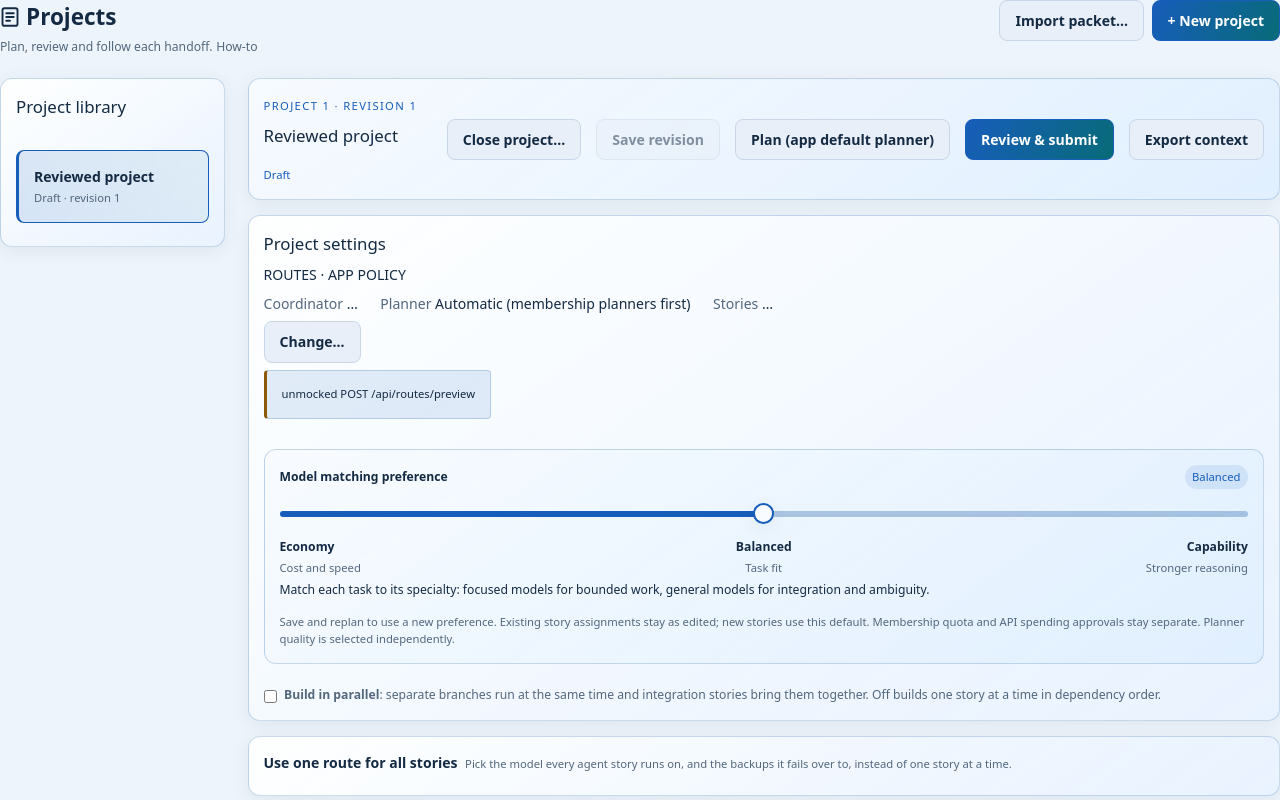
Test: submits a new brief to Hermes after coordination approval and displays honest progress
Click the button "+ New project" at point(1216, 21), box [1152,0,1279,41]
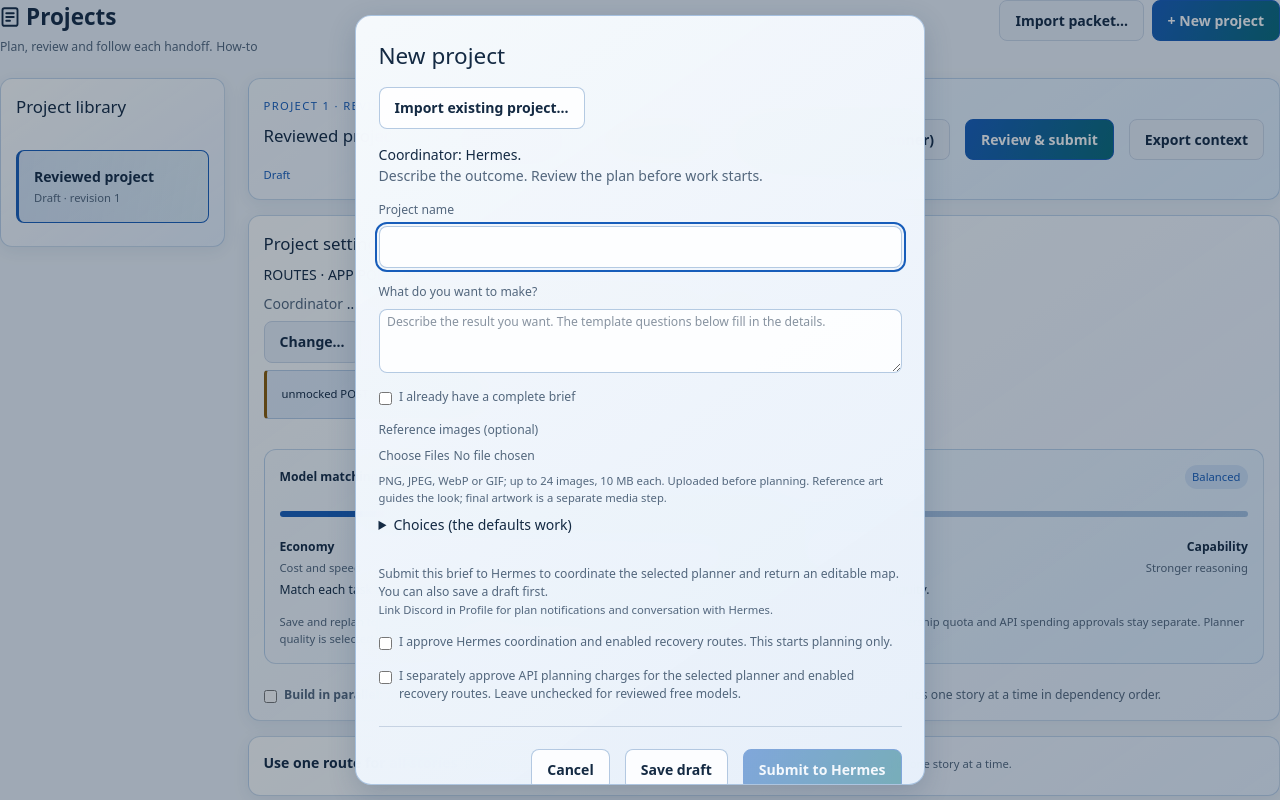
Type "Balanced project" into the field labelled "Project name" at point(640, 247), box [378,226,902,268]
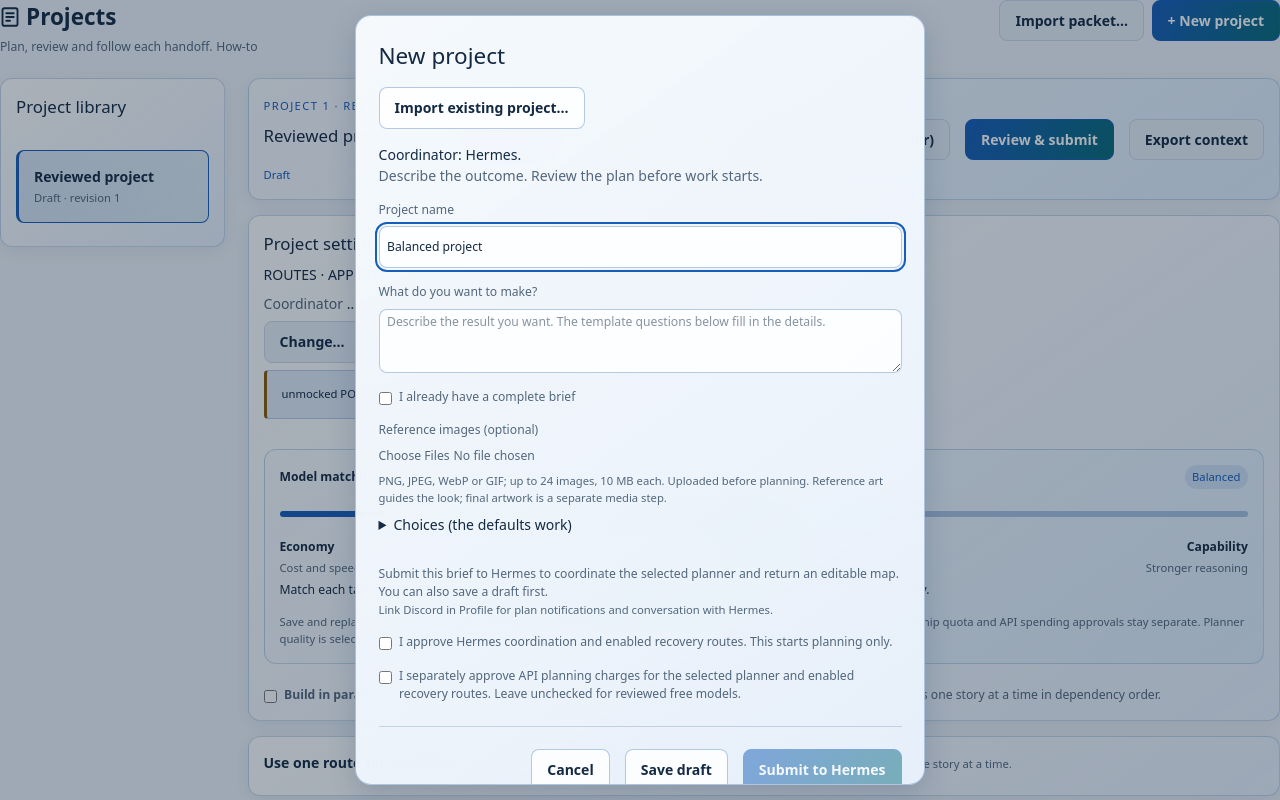
Replace the text in the text box labelled "What do you want to make?" with "A reviewed brief" at point(640, 341), box [378,308,902,373]
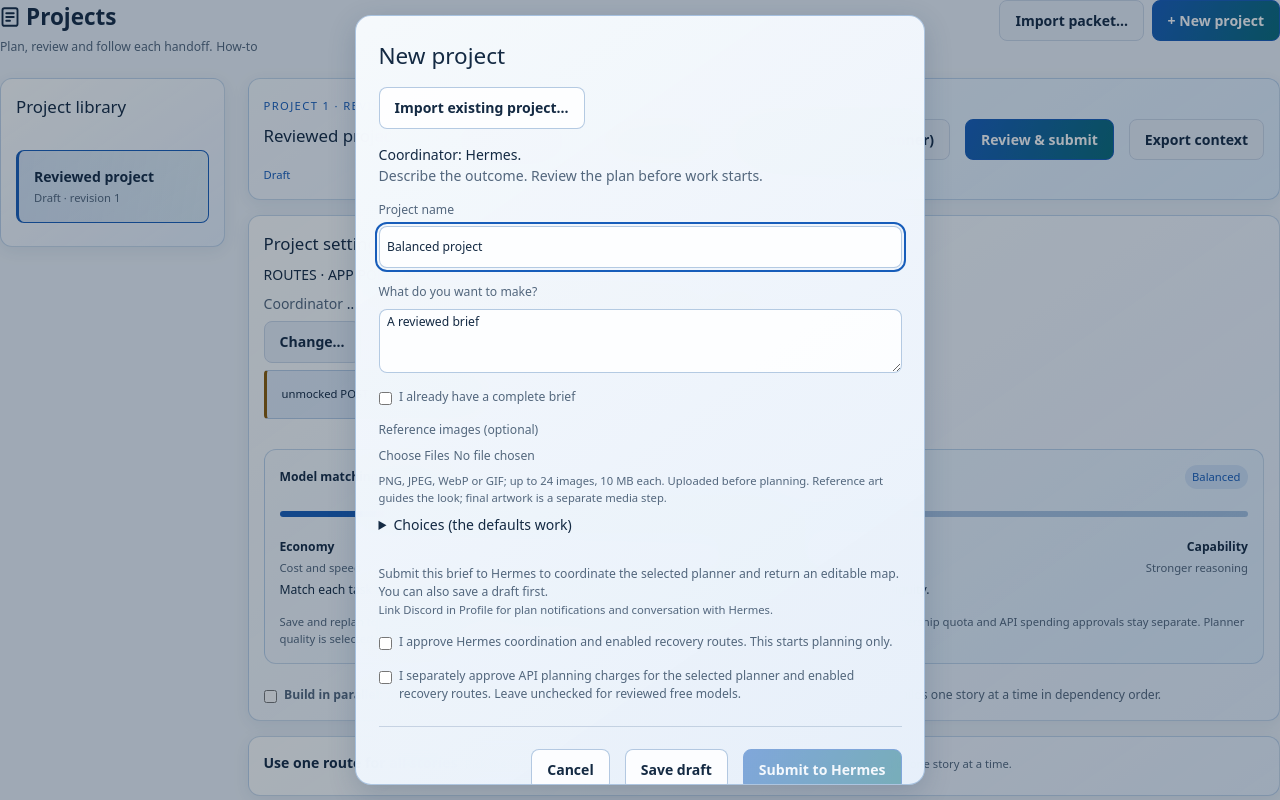
Expected: the button "Submit to Hermes" is disabled, [743,749,902,785]
Click the 2nd checkbox at point(385, 644), box [378,637,392,650]
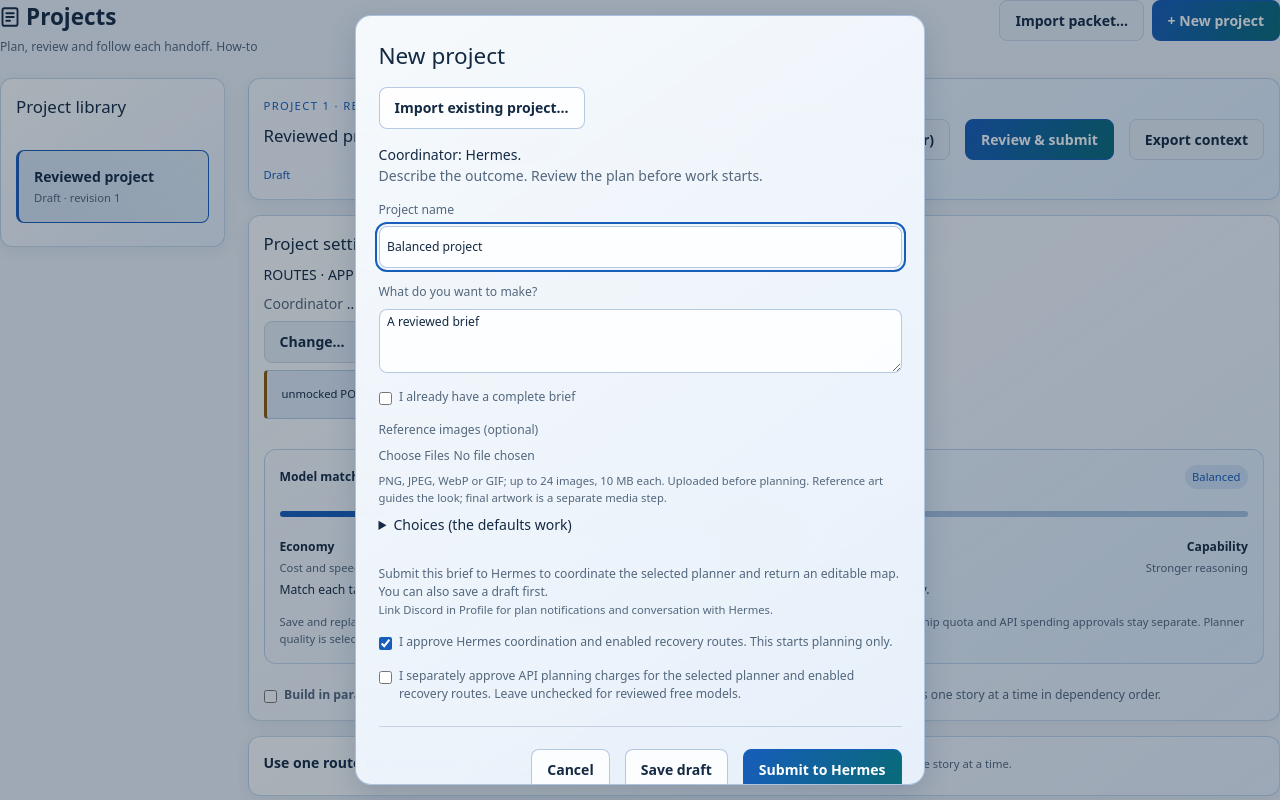
Submit the form, box [378,38,902,791]
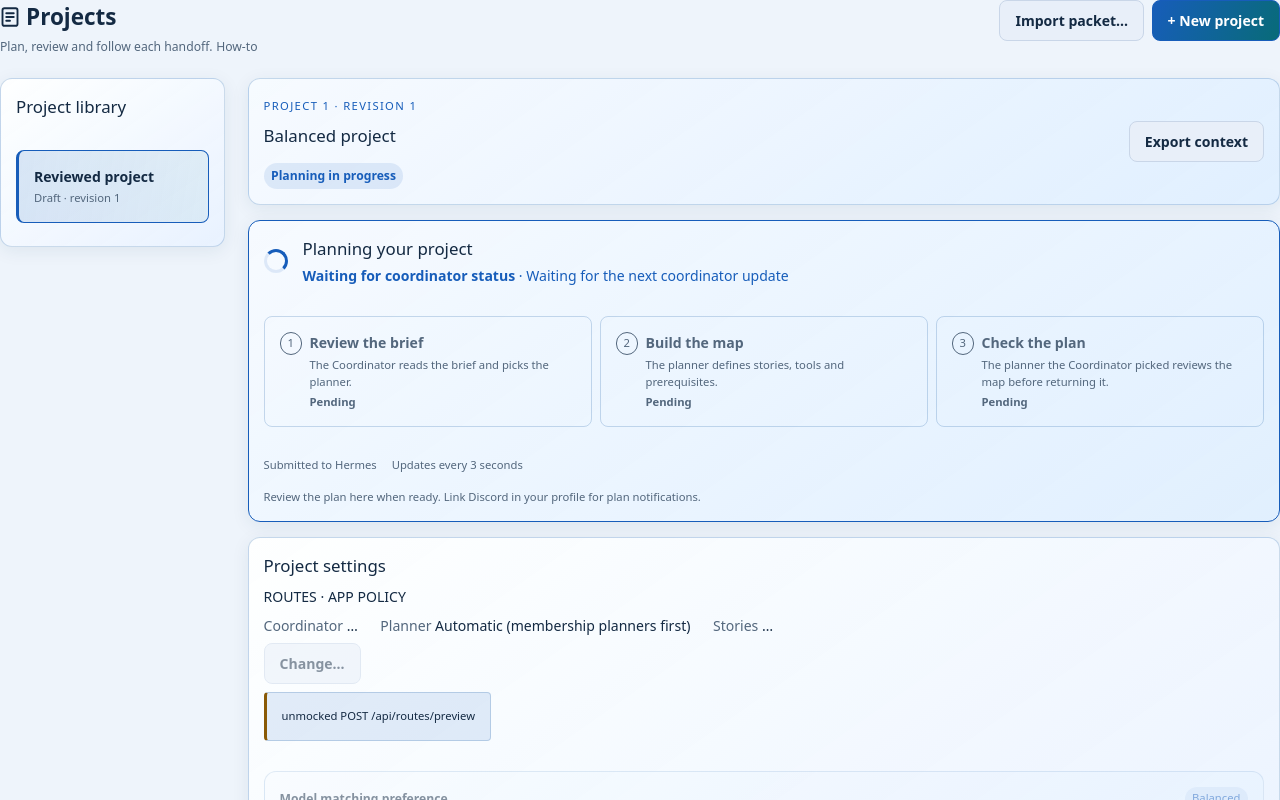
Expected: the text "Submitted to Hermes" is shown, [264,457,377,474]
Expected: the text "Link Discord in your profile" is shown, [444,489,585,504]
